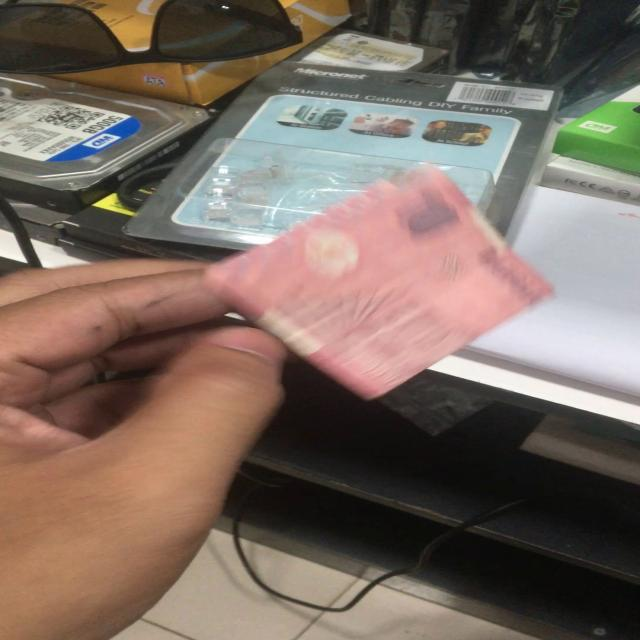Taka: (203, 155, 548, 393)
